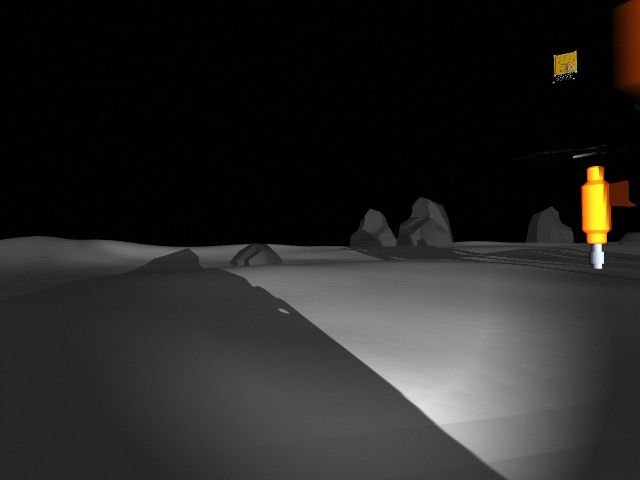cubesat: (547, 45, 590, 90)
